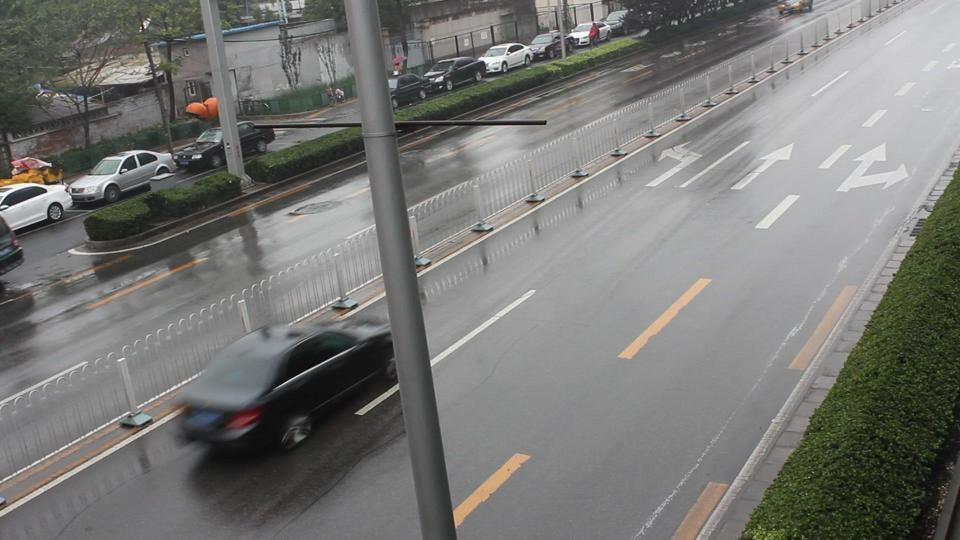car: (175, 310, 400, 458), (68, 150, 176, 207), (172, 124, 273, 171), (0, 181, 74, 236), (422, 56, 487, 92), (480, 42, 531, 75), (388, 75, 438, 107), (0, 216, 26, 273), (527, 31, 568, 61), (597, 10, 630, 40), (567, 22, 604, 48), (778, 0, 812, 14)
